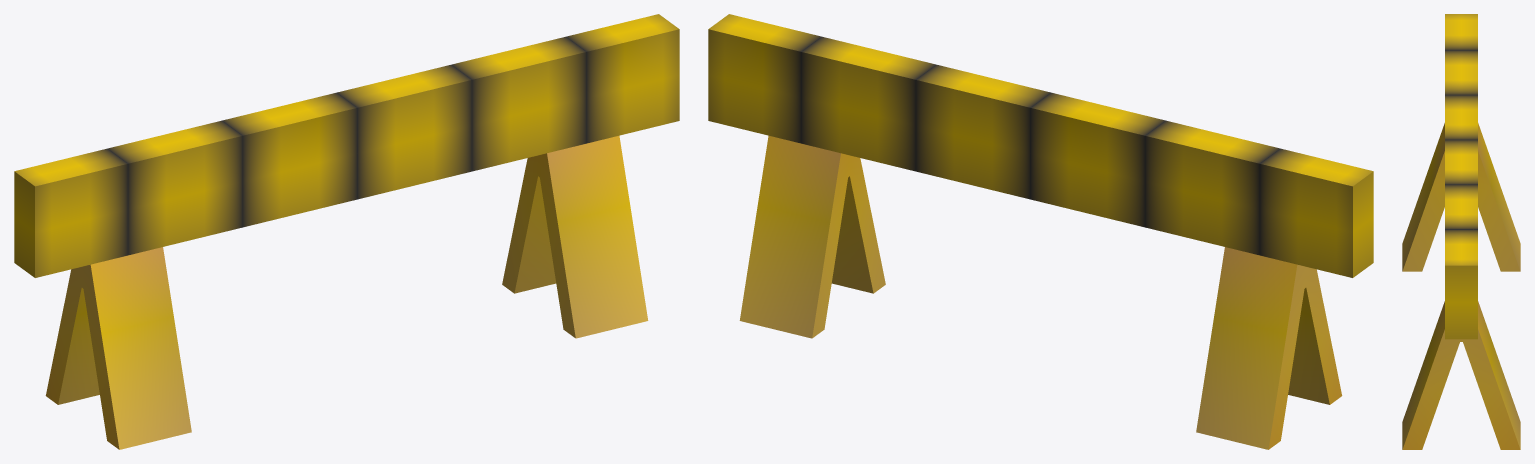
The model's file is Barrier2.fbx.
The picture shows the model from 3 angles, left to right: view 1: azimuth 30°, elevation 25°; view 2: azimuth 150°, elevation 25°; view 3: azimuth 270°, elevation 25°; orthographic projection. The views are drawn at different scales.
Parts seen in each view (by area): view 1: Barrier2; view 2: Barrier2; view 3: Barrier2.
Part boxes in pixels (<box>): Barrier2: <box>14,14,679,449</box>; Barrier2: <box>708,14,1373,449</box>; Barrier2: <box>1402,14,1520,449</box>.
Size of the model in its own units: 4.45 by 1.7 by 0.8816.
